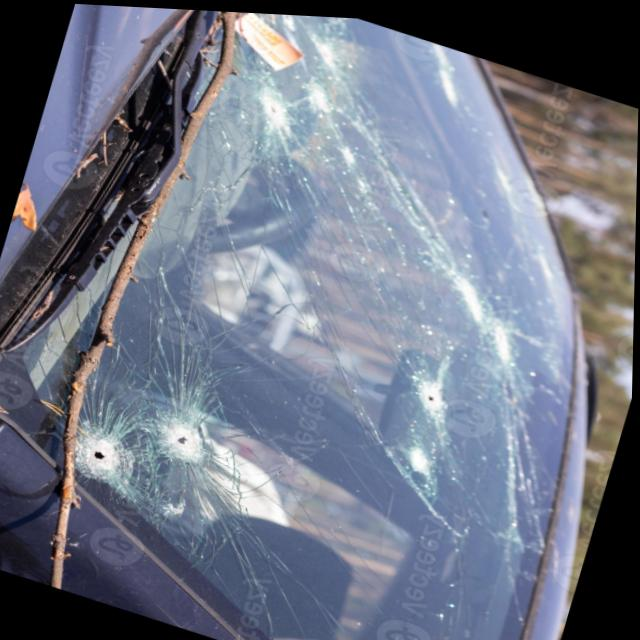Glass_Break: (79, 394, 220, 500), (378, 361, 453, 479)
